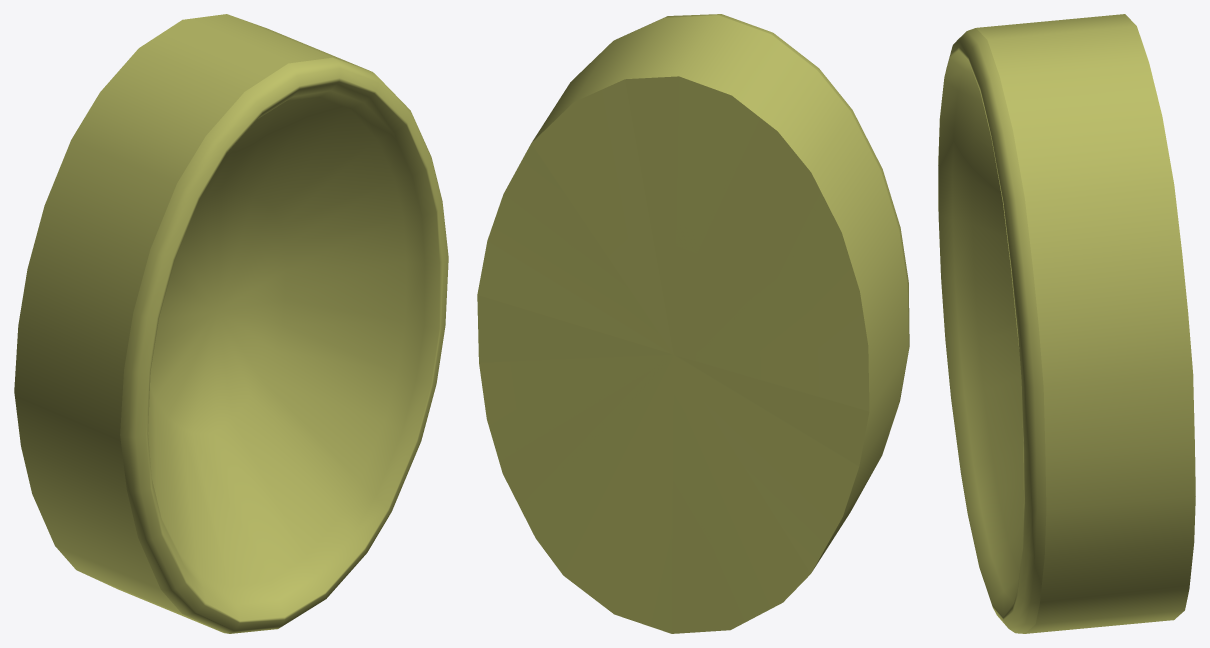
Rendered from TR1_8shapes_Oval_Classic_Metal.001 3.glb.
3 renders of one model, left to right at view 1: azimuth 30°, elevation 25°; view 2: azimuth 150°, elevation 25°; view 3: azimuth 270°, elevation 25°, orthographic. The views are drawn at different scales.
Visible parts, largest first — view 1: TR1_8shapes_Oval_Classic_Metal.001; view 2: TR1_8shapes_Oval_Classic_Metal.001; view 3: TR1_8shapes_Oval_Classic_Metal.001.
Part boxes in pixels (<box>): TR1_8shapes_Oval_Classic_Metal.001: <box>14,14,448,633</box>; TR1_8shapes_Oval_Classic_Metal.001: <box>477,14,909,633</box>; TR1_8shapes_Oval_Classic_Metal.001: <box>938,14,1195,633</box>.
Bounding box in the file's own units: 0.5674 × 0.7803 × 0.3121.
